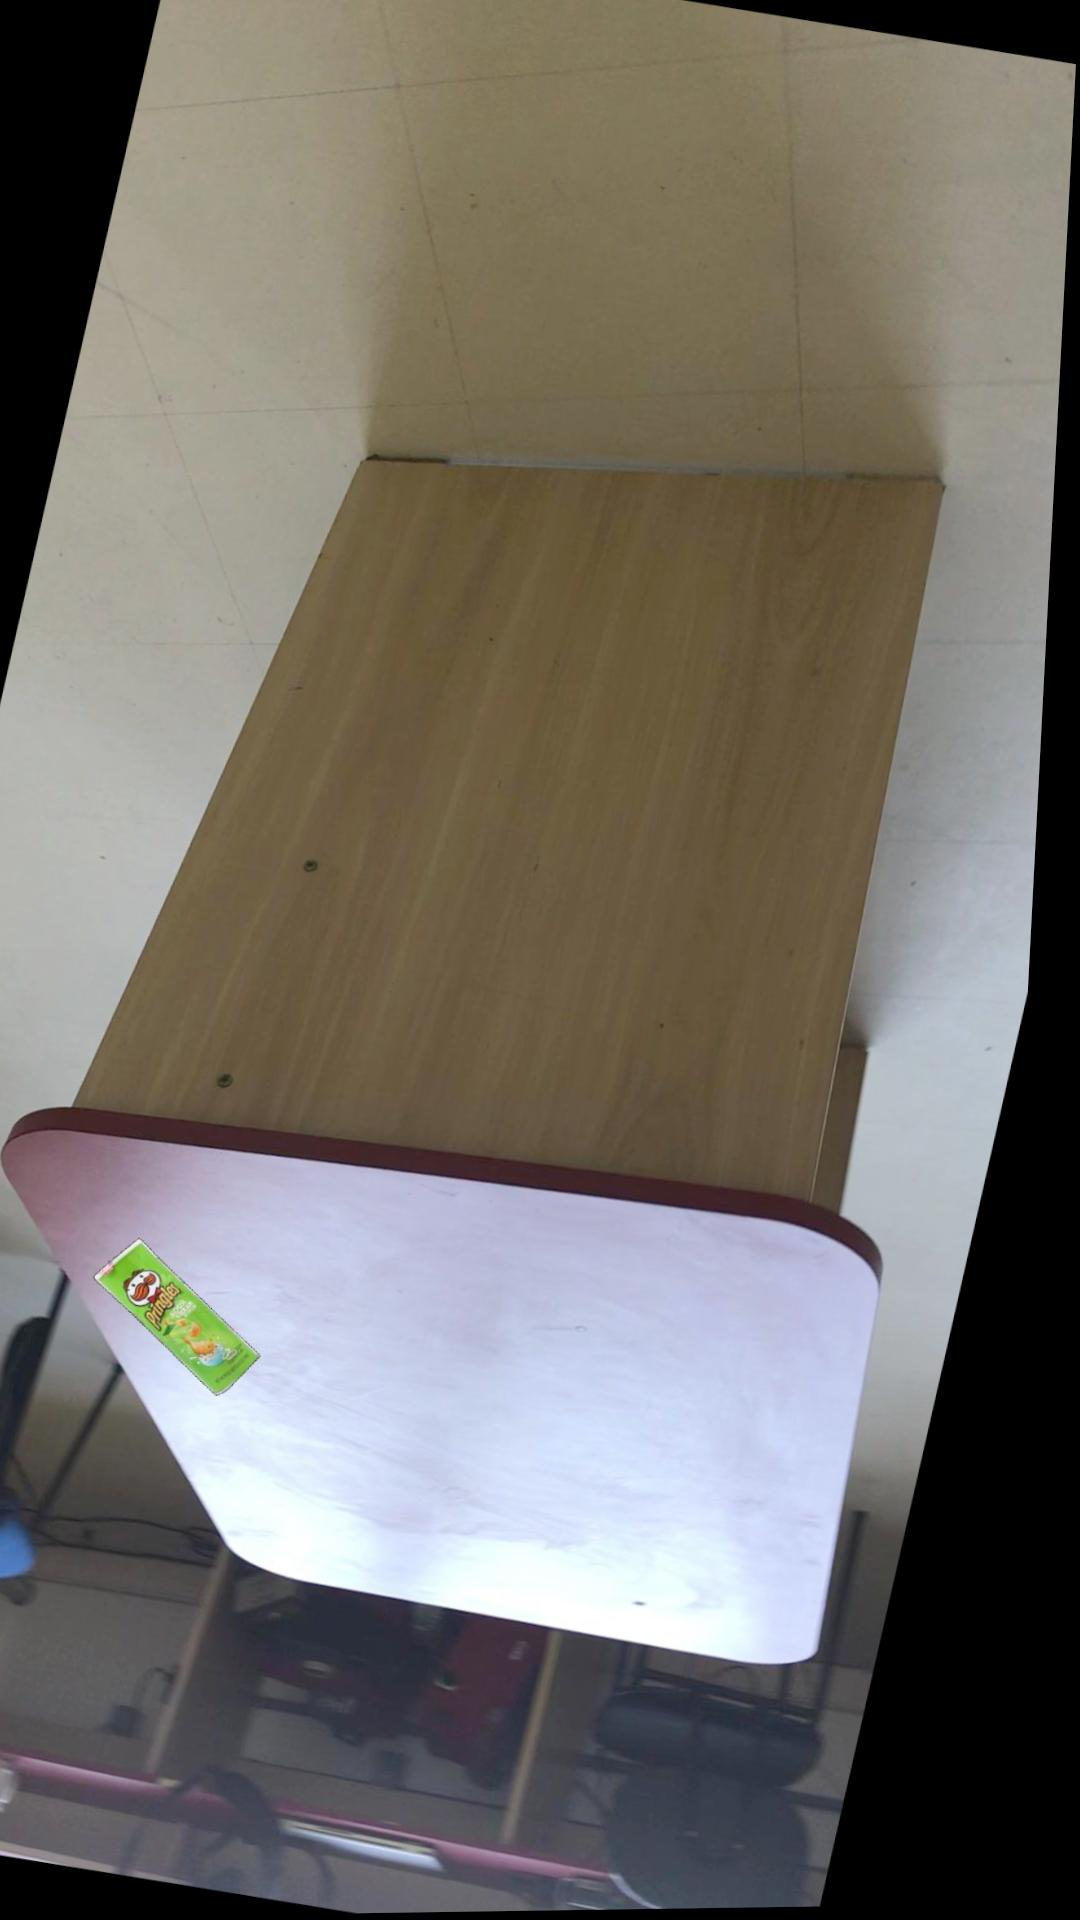pringles: (105, 1240, 274, 1398)
